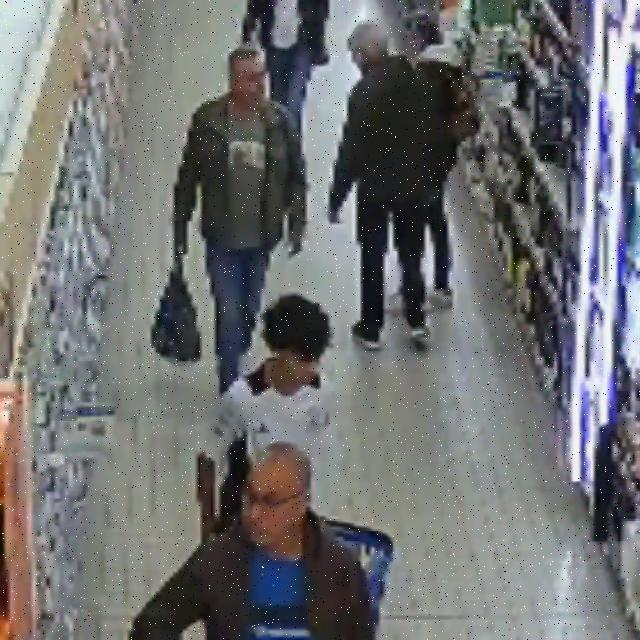bags: (151, 263, 200, 364), (443, 62, 479, 141)
hands: (289, 238, 302, 257), (328, 207, 341, 224), (174, 243, 187, 258)
person: (130, 443, 374, 639), (174, 45, 306, 393), (330, 22, 429, 350), (214, 294, 337, 530), (396, 14, 479, 310), (243, 0, 329, 130)
